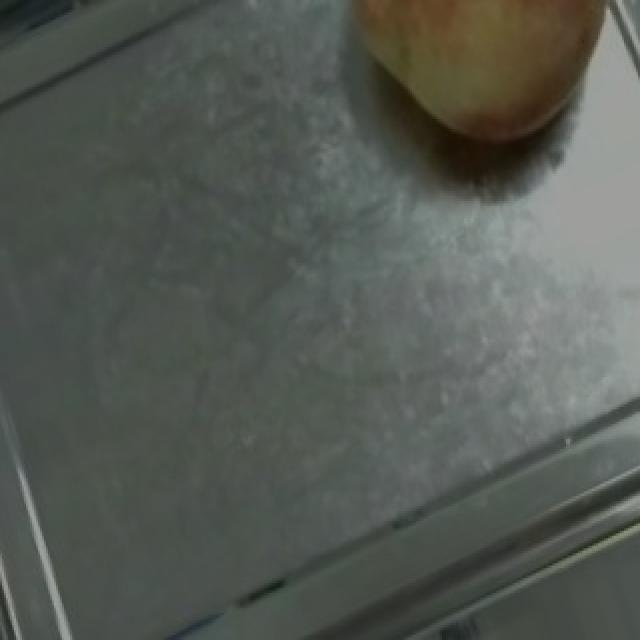Fruit: (306, 0, 628, 184)
